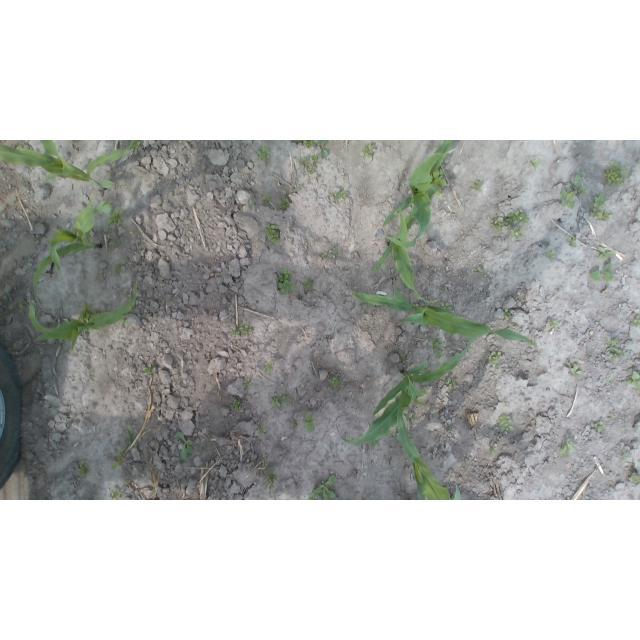Maize: (337, 339, 473, 445), (350, 292, 540, 348), (32, 199, 112, 306), (28, 279, 140, 351), (374, 183, 441, 302), (382, 140, 456, 246), (395, 392, 464, 501), (1, 141, 140, 192), (111, 428, 136, 471)
Weeds: (491, 210, 530, 239), (560, 172, 588, 209), (310, 474, 339, 500), (605, 161, 630, 187), (591, 195, 613, 222), (177, 432, 194, 460), (590, 263, 615, 282), (276, 270, 294, 294), (269, 392, 293, 408), (433, 170, 447, 197), (429, 336, 445, 359), (300, 156, 318, 175), (265, 222, 280, 244), (607, 347, 628, 362), (488, 351, 504, 370), (627, 370, 640, 391), (498, 415, 514, 432), (107, 211, 125, 226), (560, 440, 575, 457), (598, 247, 617, 260), (81, 306, 96, 322), (305, 412, 316, 433), (360, 143, 375, 158), (566, 363, 582, 377), (330, 191, 347, 204), (266, 472, 278, 490), (294, 140, 318, 148), (318, 141, 329, 158), (257, 146, 270, 160), (528, 156, 542, 168), (77, 461, 88, 476), (278, 197, 290, 210), (471, 180, 484, 192), (263, 362, 274, 375), (446, 377, 458, 388), (328, 377, 340, 388), (595, 421, 606, 433), (239, 325, 252, 335), (143, 364, 153, 377), (247, 195, 256, 209), (404, 413, 415, 424), (113, 263, 123, 275), (567, 236, 577, 248), (329, 246, 339, 258), (111, 490, 122, 500), (620, 453, 632, 462), (303, 279, 313, 289), (630, 474, 640, 484), (547, 249, 557, 259), (440, 302, 452, 310), (608, 338, 620, 346), (547, 320, 559, 328), (604, 375, 613, 385), (503, 309, 511, 320), (19, 299, 27, 310), (243, 379, 251, 390), (633, 315, 640, 327), (488, 448, 497, 457), (232, 401, 240, 411), (400, 354, 408, 363), (132, 140, 141, 148), (257, 426, 266, 434), (231, 327, 239, 335), (262, 195, 270, 203), (475, 269, 484, 276), (321, 252, 329, 259), (294, 184, 302, 191), (385, 430, 392, 437), (291, 419, 297, 426), (609, 414, 616, 419), (360, 496, 366, 501)
